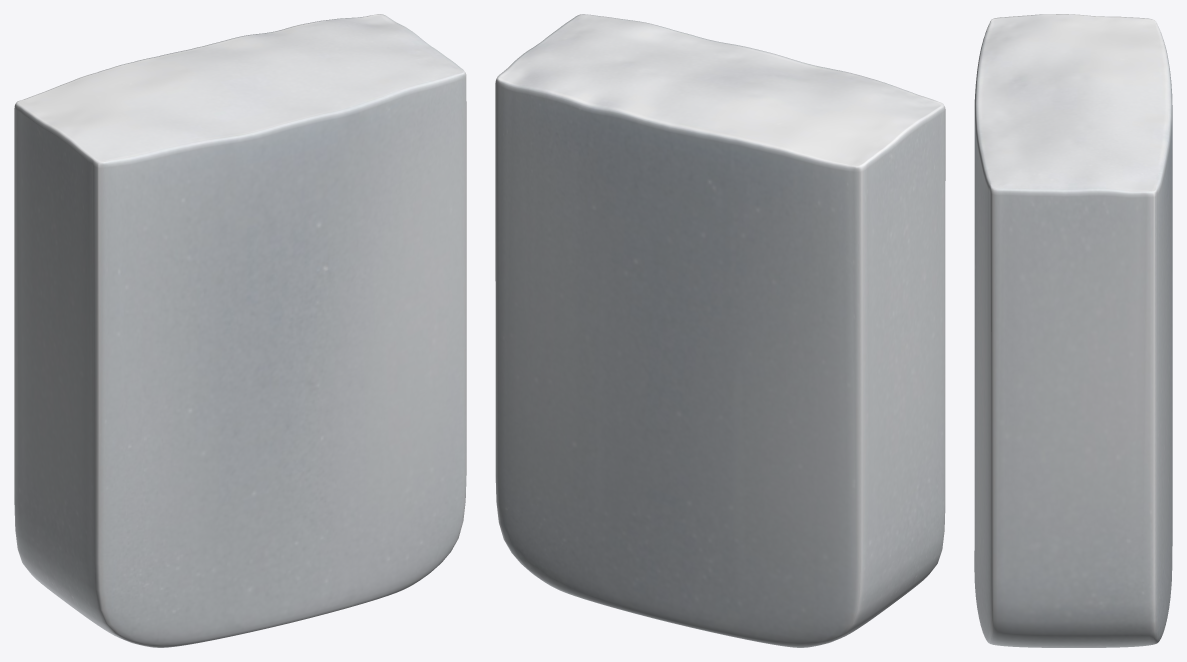
The model's file is hydrating-cleanser-cream.glb.
The picture shows the model from 3 angles, left to right: view 1: azimuth 30°, elevation 25°; view 2: azimuth 150°, elevation 25°; view 3: azimuth 270°, elevation 25°; orthographic projection. The views are drawn at different scales.
Parts seen in each view (by area): view 1: cream new; view 2: cream new; view 3: cream new.
Boxes of the visible parts, <box> form: cream new: <box>14,14,466,647</box>; cream new: <box>495,14,945,647</box>; cream new: <box>974,14,1172,647</box>.
Bounding box in the file's own units: 1.75 × 2.28 × 0.8348.
1 material, 1 textured.
